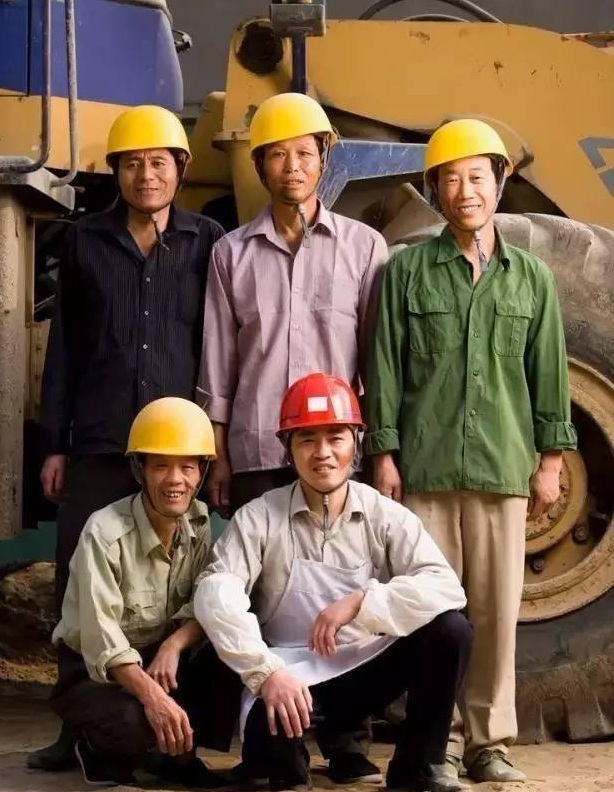safetyhat: (381, 96, 586, 446), (242, 374, 442, 710), (84, 387, 237, 712), (210, 90, 372, 376), (46, 85, 209, 367)
